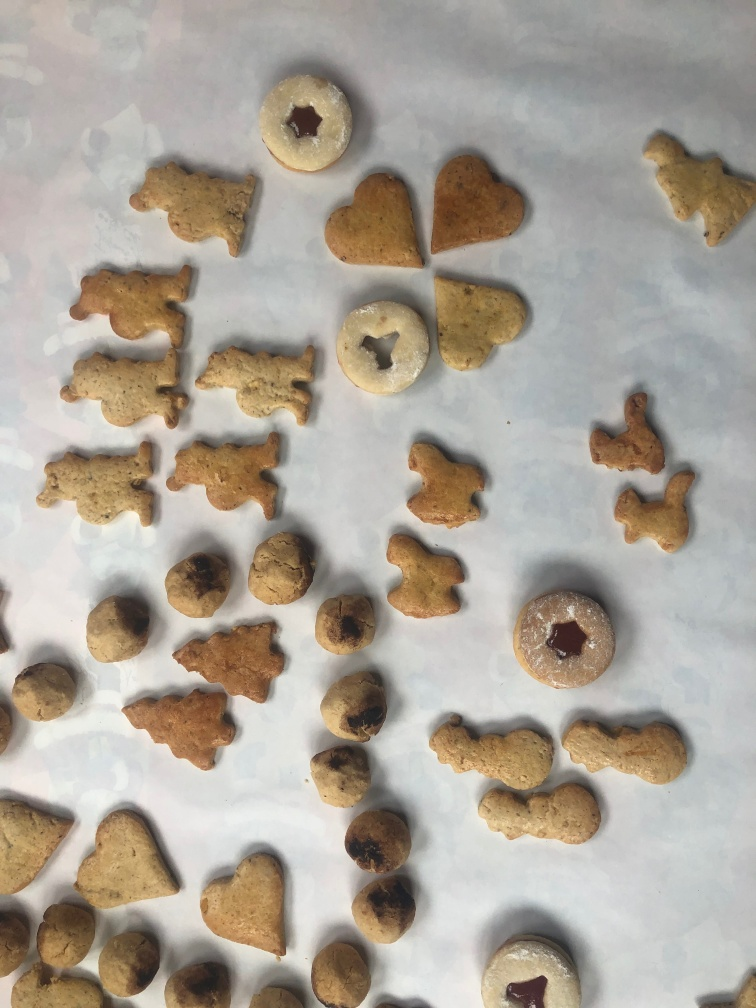christmas shortbread with jam: (252, 63, 354, 177), (512, 586, 616, 694), (333, 295, 430, 395), (475, 933, 588, 1008)
christmas tree: (114, 677, 244, 774), (169, 615, 288, 712)
heart: (424, 144, 539, 260), (71, 802, 184, 918), (427, 264, 541, 376), (198, 840, 296, 960), (322, 165, 428, 272), (3, 788, 89, 902)
king mage: (633, 123, 756, 244)
lamb: (397, 427, 491, 536), (381, 520, 472, 626)
santa claus: (127, 150, 263, 258), (66, 255, 202, 354), (31, 435, 163, 534), (196, 328, 319, 433), (55, 345, 194, 430), (165, 427, 289, 520)
snowball: (244, 525, 322, 602), (315, 666, 395, 741), (81, 590, 152, 674), (161, 549, 237, 621), (345, 801, 415, 879), (32, 892, 97, 971), (98, 921, 162, 1000), (347, 877, 421, 945), (7, 657, 82, 724), (301, 739, 374, 807), (305, 935, 370, 1008), (310, 588, 381, 653), (163, 951, 233, 1008)
snowman: (559, 711, 697, 791), (465, 778, 615, 849), (427, 713, 557, 789)
squirrel: (610, 460, 701, 555), (582, 378, 666, 478)
